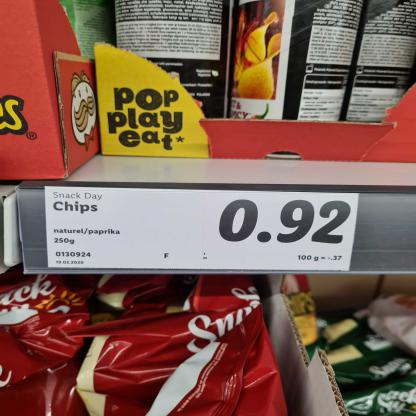prtg: (45, 187, 360, 272)
